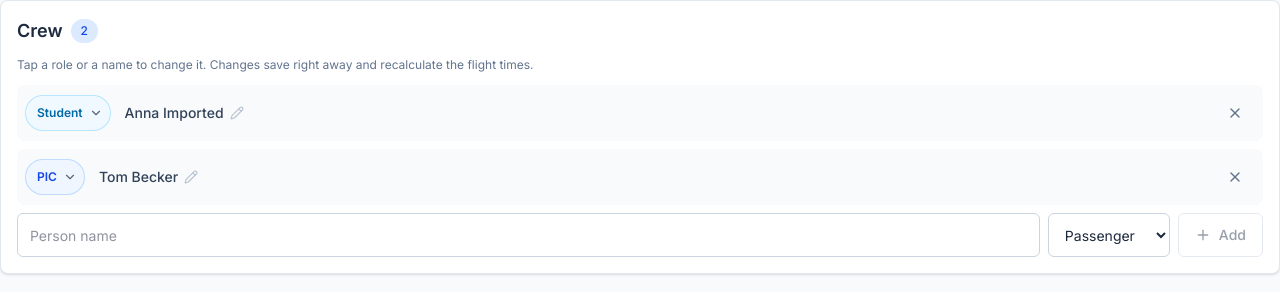
Test: FlightCrewCard › saves a role change right away with the derived names
Select "Instructor" in the dropdown named "Role of Anna Imported" at (68, 113), box [25, 95, 111, 131]
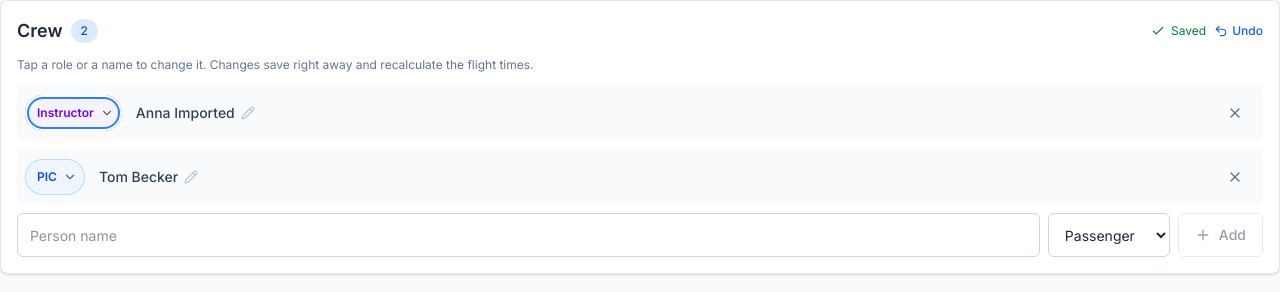
expect the text "Saved" is shown: met, box [1151, 23, 1206, 39]
